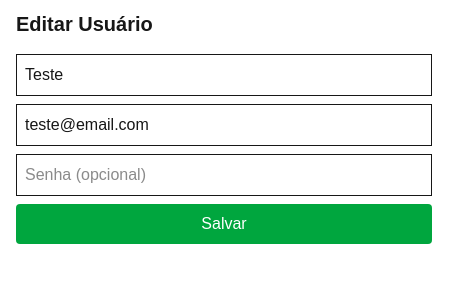
Scenario: EditUserPage › valida email inválido
The image size is (449, 289).
Replace the text in the 2nd field showing "teste@email.com" with "emailinvalido": (224, 125) [16,104,432,146]
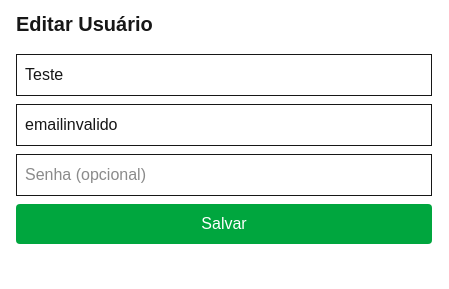
Click the button "Salvar": click(224, 224) [16,204,432,244]
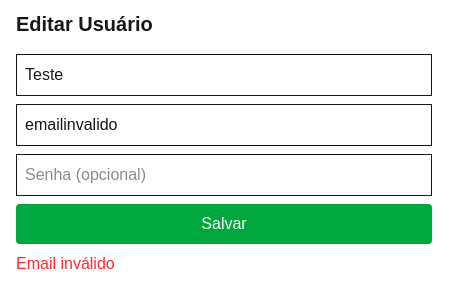
Check: the text "Email inválido" is shown, box [16,255,115,272]
